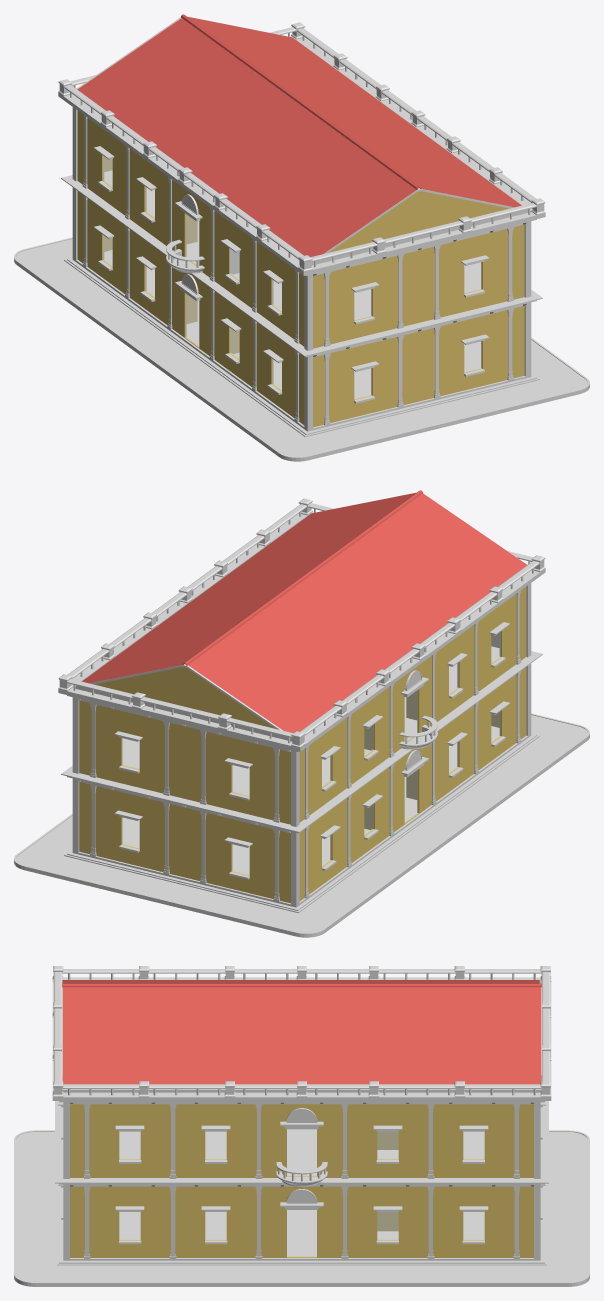
Rendered from building.glb.
3 renders of one model, top to bottom at view 1: azimuth 30°, elevation 25°; view 2: azimuth 150°, elevation 25°; view 3: azimuth 270°, elevation 25°, orthographic.
Parts seen in each view (by area): view 1: MalvianHouse; view 2: MalvianHouse; view 3: MalvianHouse.
Boxes of the visible parts, x1=… form: MalvianHouse: x1=14, y1=14, x2=589, y2=461; MalvianHouse: x1=14, y1=490, x2=589, y2=937; MalvianHouse: x1=14, y1=966, x2=589, y2=1286.
Bounding box in the file's own units: 16.8 × 11.62 × 26.8.
